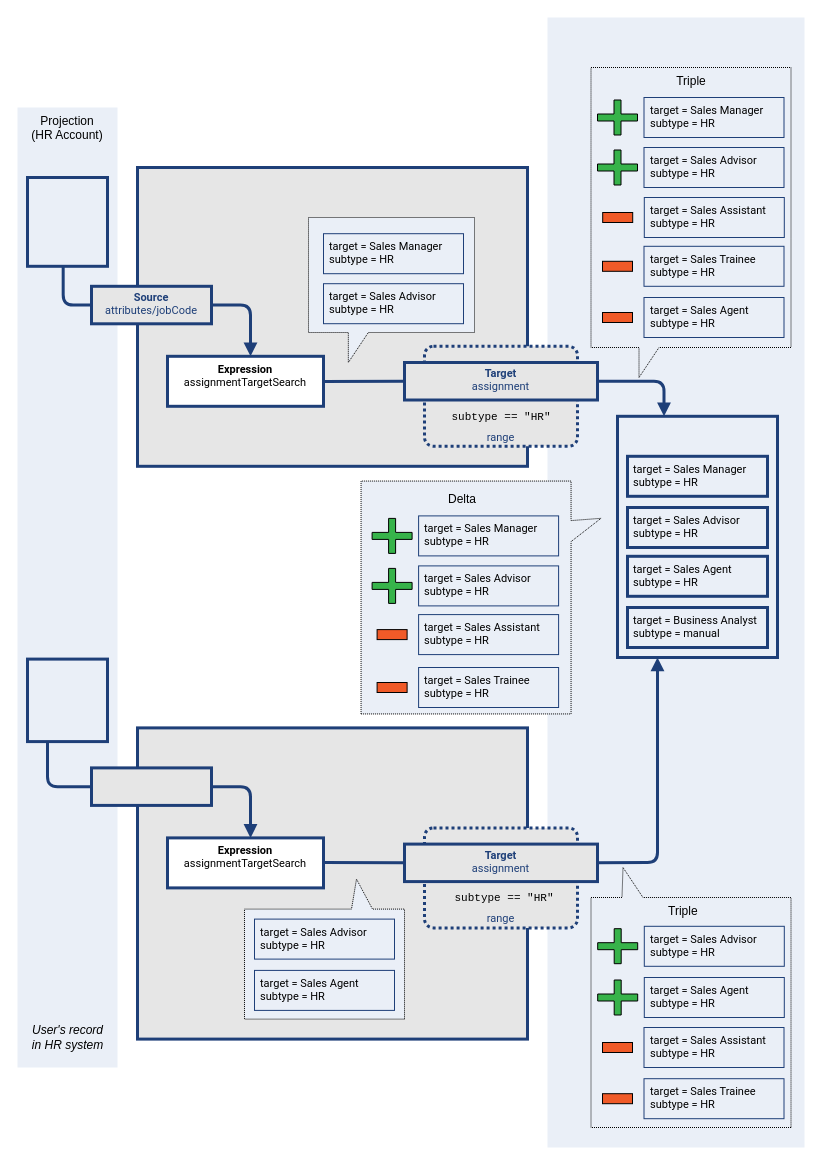
Some shapes in this 821 by 1164 pixel diagram are drawn without their labels. Here are the shapes that lost their labels. From the top down, the box of each, then its label:
(26, 176, 108, 267): jobCode (new value) 30054 31238
(136, 166, 528, 467): Mapping A
(616, 414, 778, 658): assignment (new values)
(547, 17, 804, 1147): Focus (User)
(26, 657, 108, 743): legacyCode (new value) SAL_ADV SAL_AGE
(90, 766, 212, 806): Source attributes/legacyCode
(136, 726, 528, 1040): Mapping B
